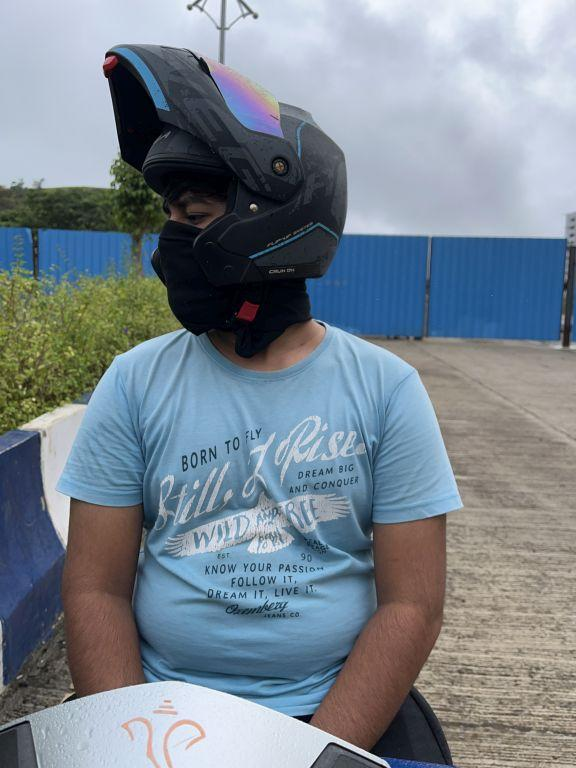helmet: (95, 22, 356, 343)
